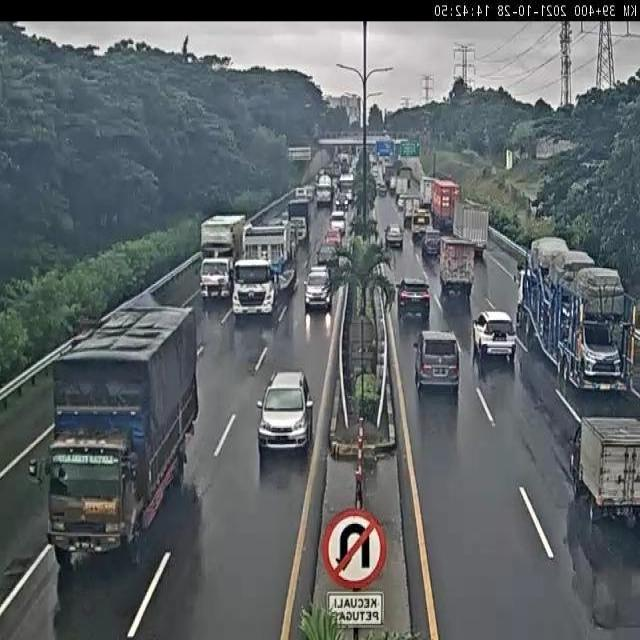Bus: (338, 171, 355, 199)
Car: (256, 369, 314, 454), (473, 310, 517, 364), (396, 277, 430, 325), (304, 265, 334, 312), (316, 243, 339, 269), (385, 225, 404, 249), (330, 210, 346, 235), (324, 227, 342, 249), (336, 192, 352, 211)
Truck: (32, 304, 194, 568), (517, 242, 634, 394), (566, 415, 640, 528), (230, 222, 300, 317), (200, 213, 247, 301), (439, 237, 477, 298), (452, 200, 490, 260), (431, 179, 460, 235), (287, 195, 312, 241), (421, 227, 442, 258), (315, 173, 334, 207)
Van: (413, 330, 460, 393)
